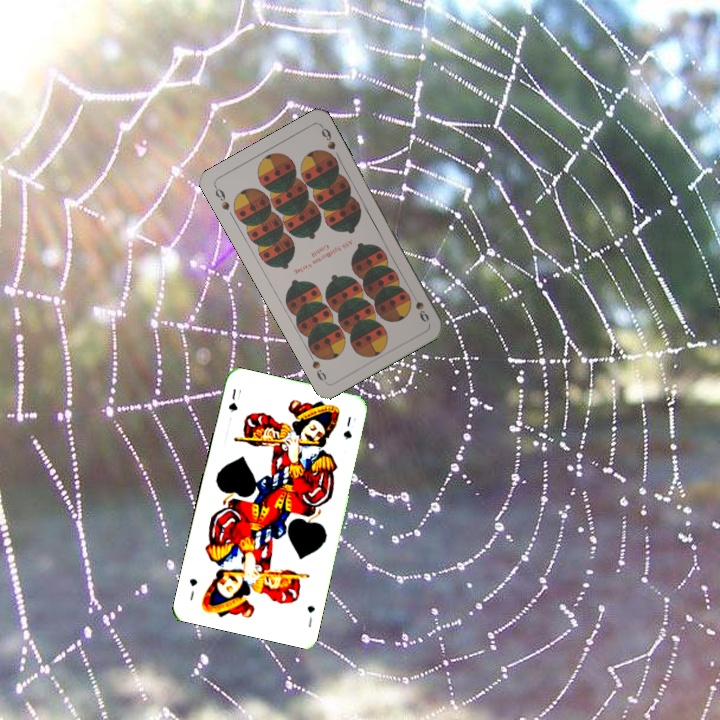GU: (224, 385, 240, 415), (303, 601, 318, 630)
S9: (407, 288, 432, 325), (210, 182, 232, 213)
